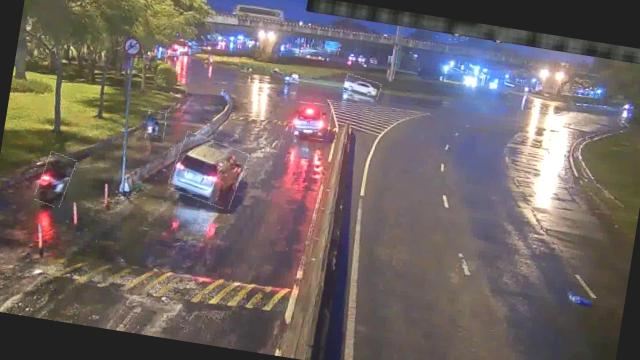Bike: (35, 152, 75, 207), (144, 110, 167, 141)
Bus: (168, 133, 248, 208)
Car: (290, 100, 332, 140), (342, 74, 382, 99)
